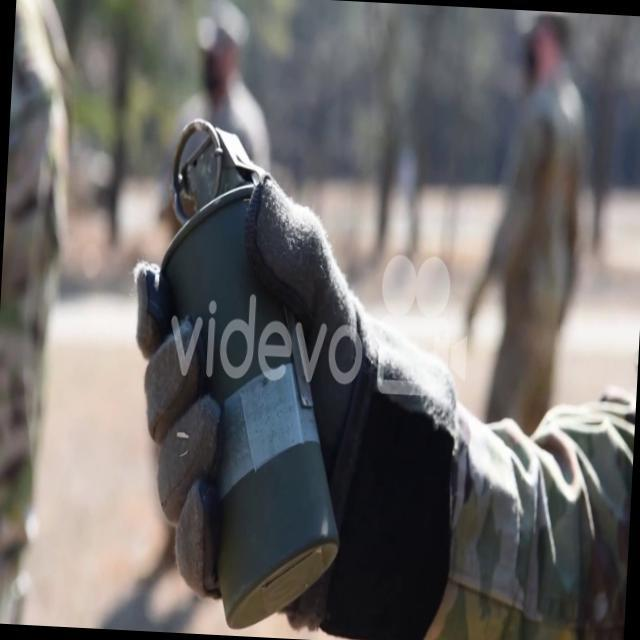grenade: (124, 114, 361, 637)
